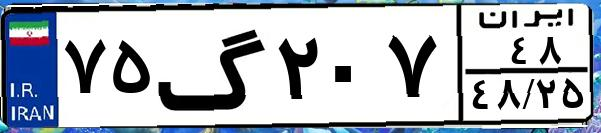0: (330, 28, 385, 110)
2: (270, 28, 330, 110), (535, 70, 560, 125)
4: (508, 27, 537, 80), (470, 70, 495, 125)
5: (110, 28, 156, 98), (560, 70, 590, 125)
7: (385, 28, 445, 110), (57, 26, 110, 100)
8: (537, 27, 568, 80), (495, 70, 520, 125)
گ: (156, 12, 270, 120)
